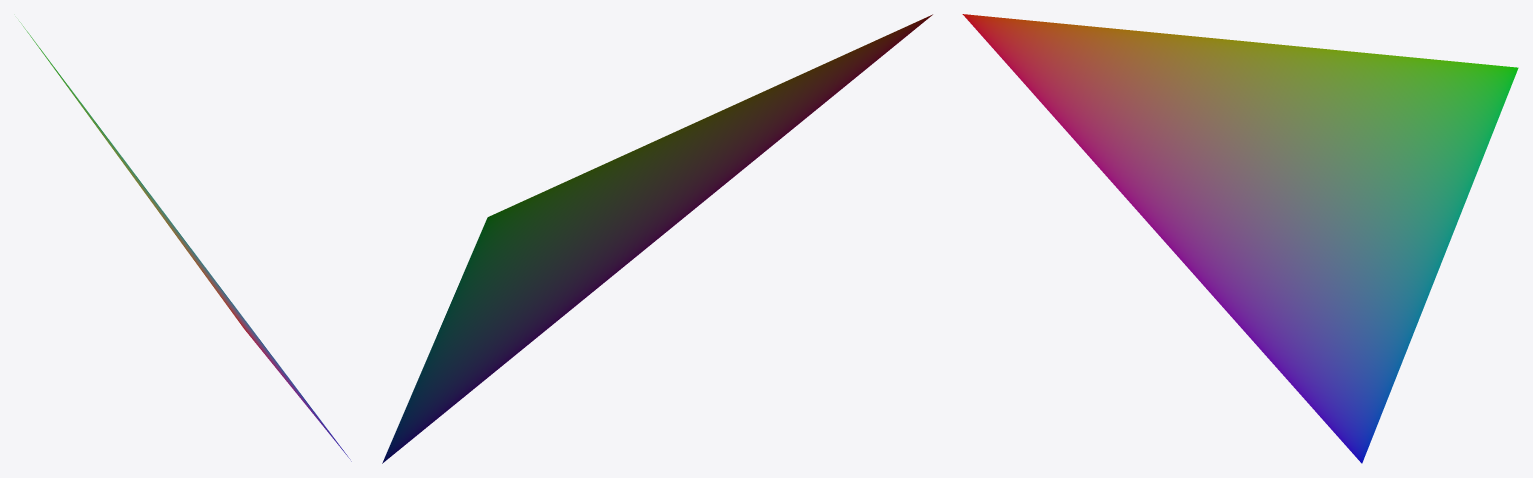
File: face_cleaning_conquest_71.obj
3 renders of one model, left to right at view 1: azimuth 30°, elevation 25°; view 2: azimuth 150°, elevation 25°; view 3: azimuth 270°, elevation 25°, orthographic. The views are drawn at different scales.
Size of the model in its own units: 0.4677 by 0.5 by 0.8046.
